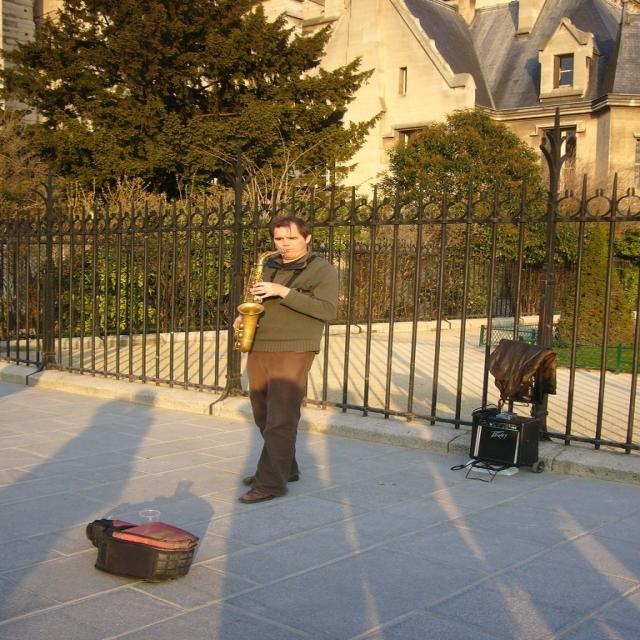saxophone: (231, 248, 288, 353)
